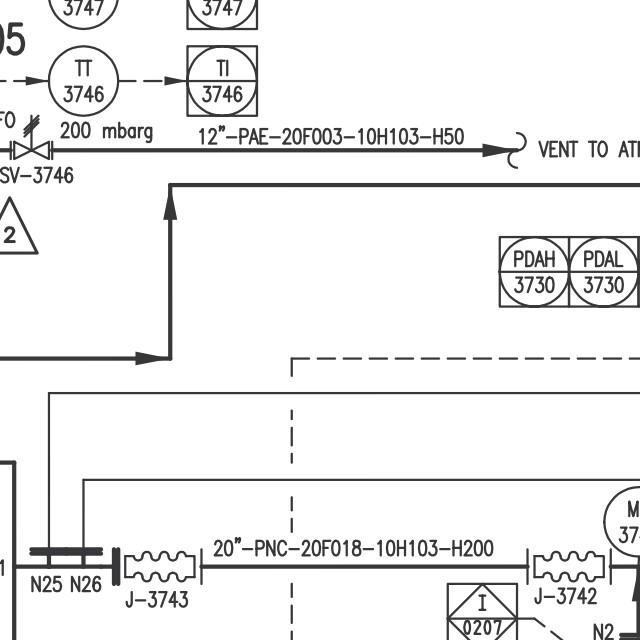EJ: (115, 542, 207, 591), (522, 540, 616, 587)
RPV: (6, 113, 58, 166)
